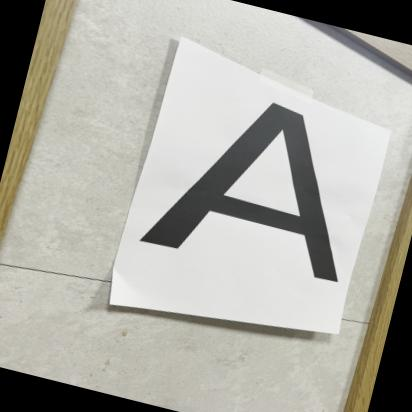seat: (148, 85, 382, 314)
